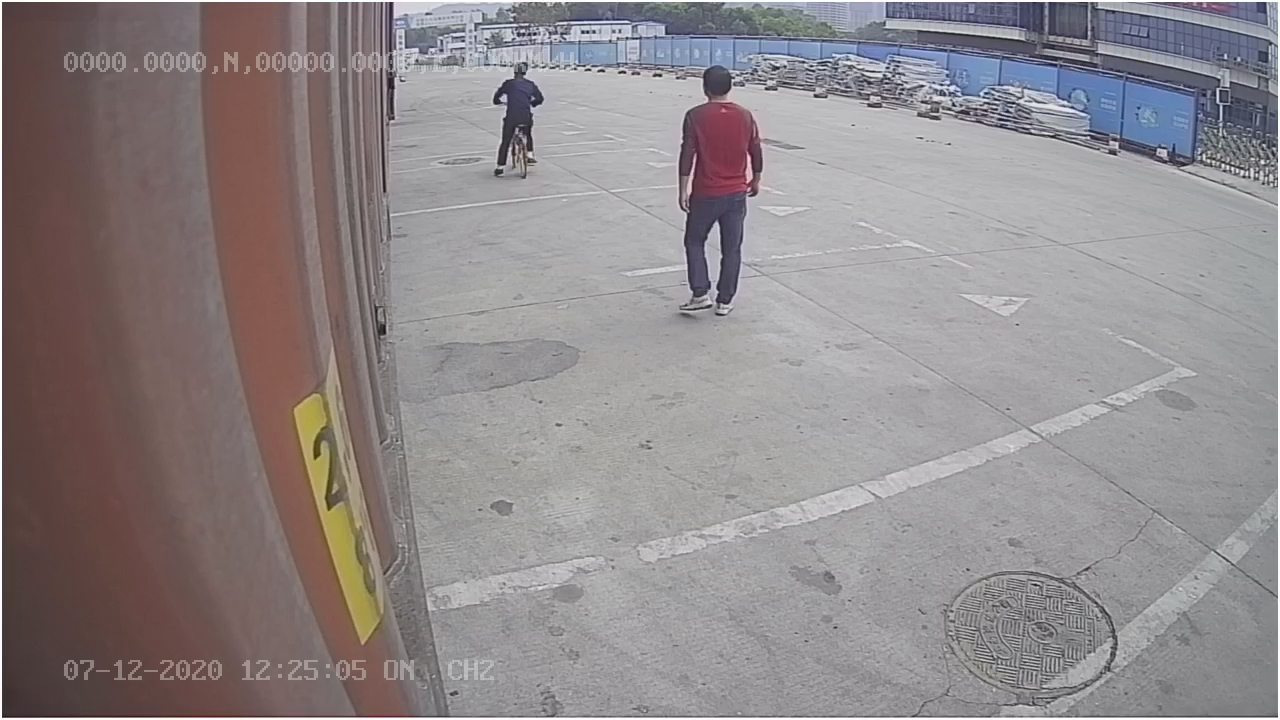person: (673, 62, 768, 321)
